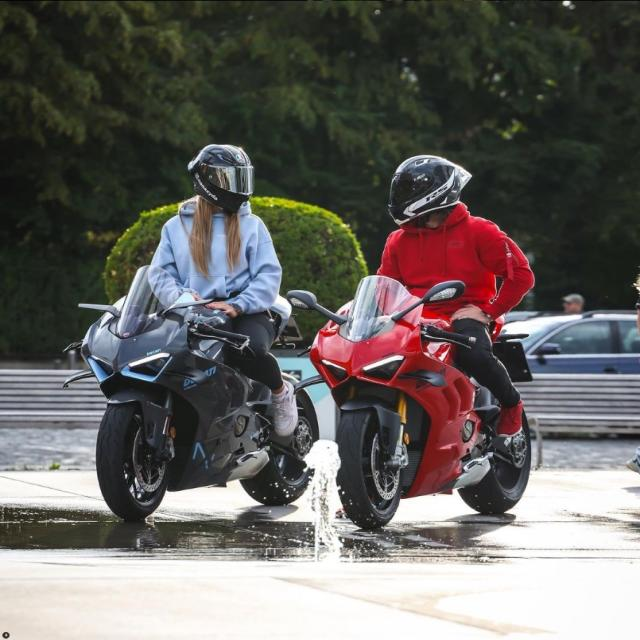helmet: (383, 150, 475, 236), (185, 139, 258, 217)
